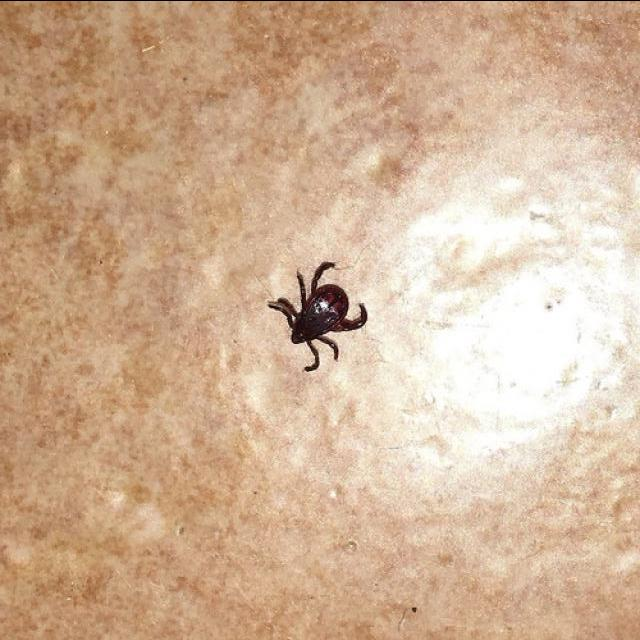Rhipicephalus Sanguineus-M: (265, 259, 367, 374)
